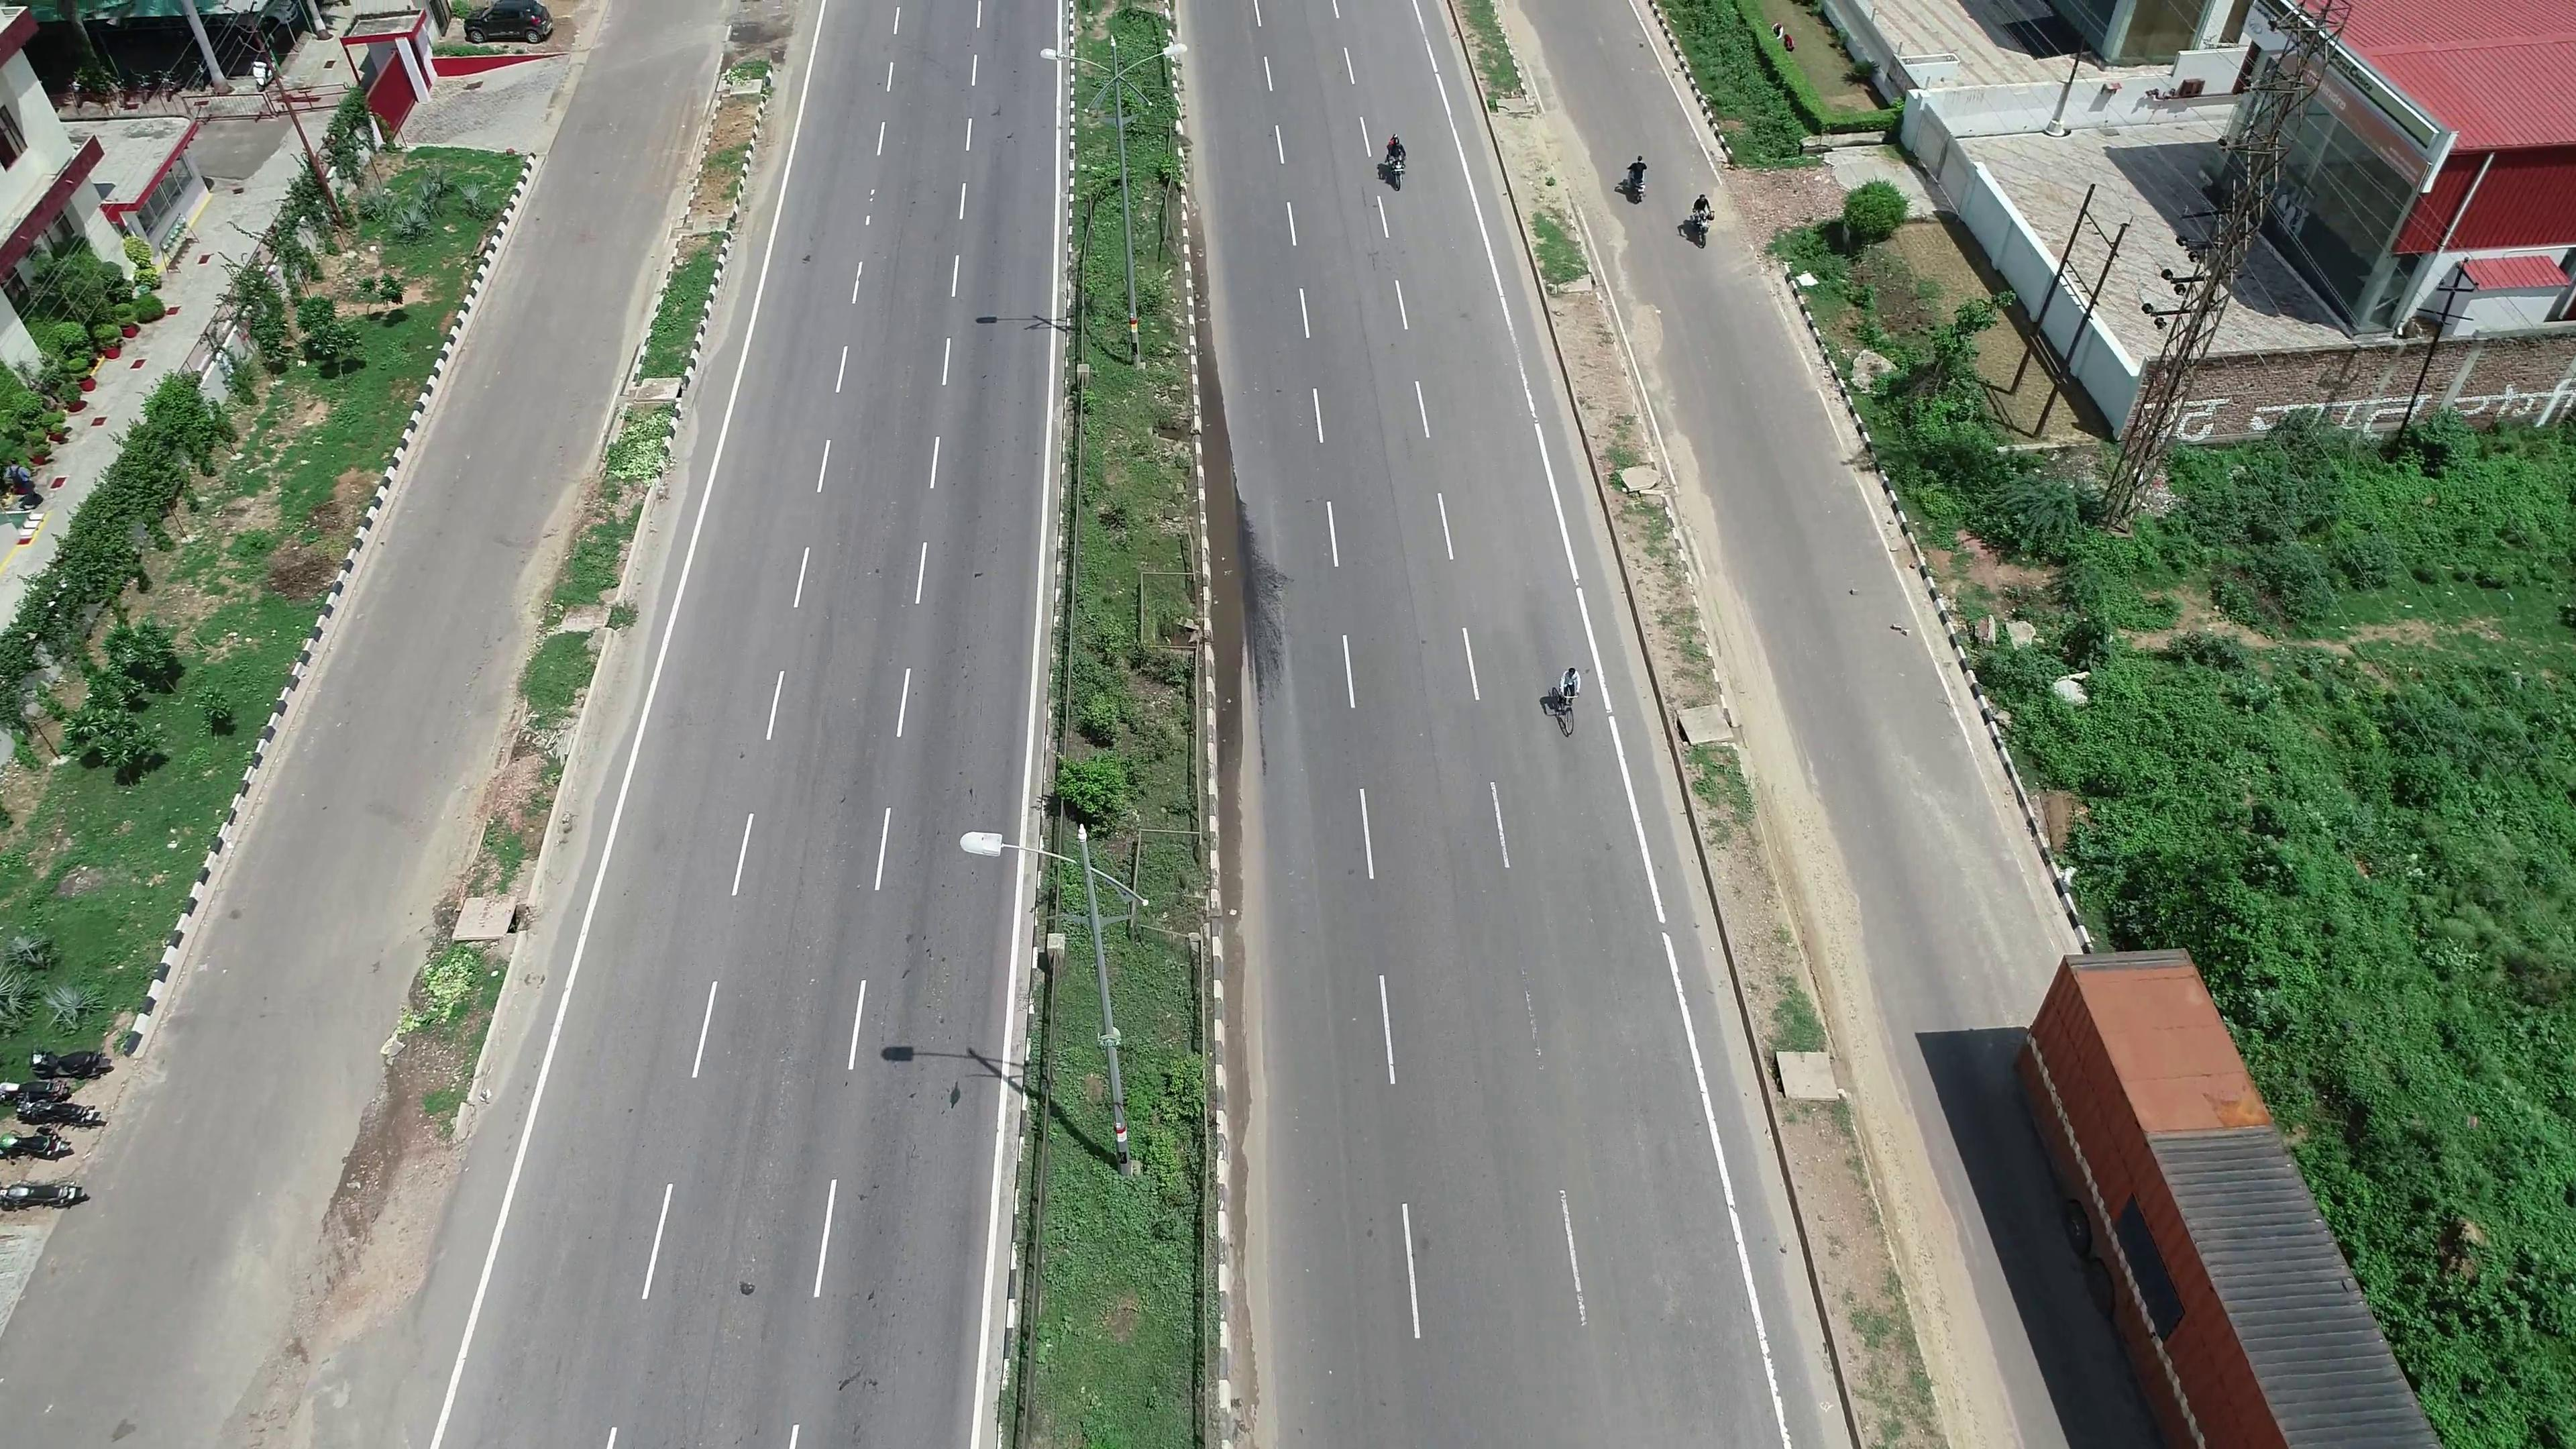Muddy_road: (1746, 699, 1865, 961)
Waterlogging: (1201, 423, 1267, 692)
